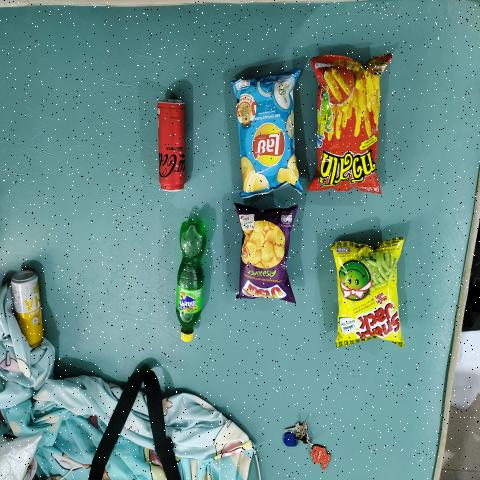coke_red: (159, 96, 184, 193)
fanta_green: (180, 217, 201, 344)
lay_blue: (234, 76, 293, 188)
party_purple: (242, 212, 285, 300)
snack_jack: (337, 244, 397, 345)
twisco: (320, 61, 373, 184)
